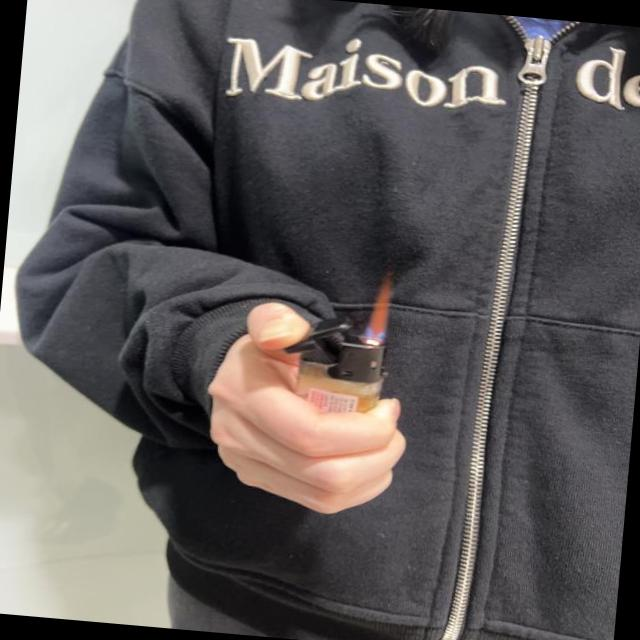Fire: (354, 274, 396, 344)
